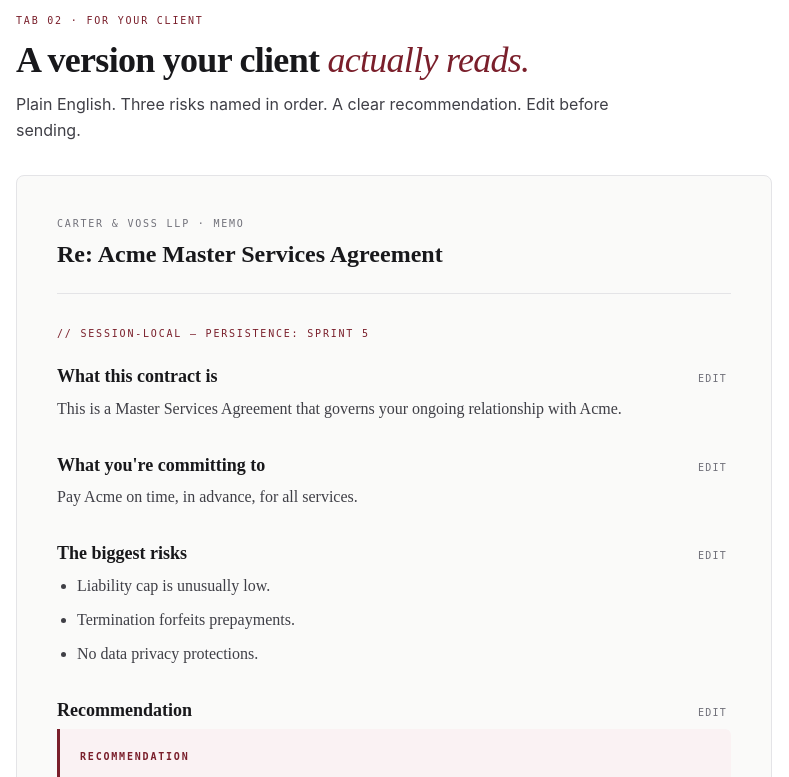
Test case: <ClientSummary /> › edit-in-place: clicking Edit on "What this contract is" → textarea → Save → rendered text reflects edit
Expected: the text "This is a Master Services Agreement that governs your ongoing relationship with Acme." is shown, [57, 400, 622, 416]
Note: Click the Edit button on the first section.
Click the button with test id "edit-what_this_contract_is" at (713, 378), box [694, 371, 731, 386]
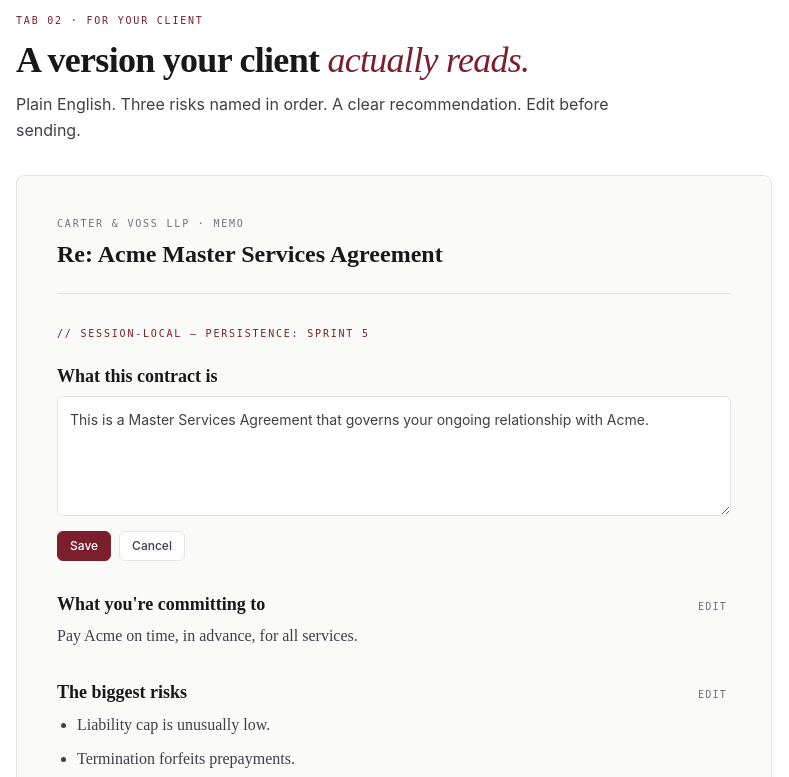
Now the text box with test id "textarea-what_this_contract_is" is shown
Now the text box with test id "textarea-what_this_contract_is" holds "This is a Master Services Agreement that governs your ongoing relationship with Acme."
Note: Type a replacement.
Replace the text in the text box with test id "textarea-what_this_contract_is" with "EDITED — a tighter sentence." at (394, 456), box [57, 396, 731, 516]
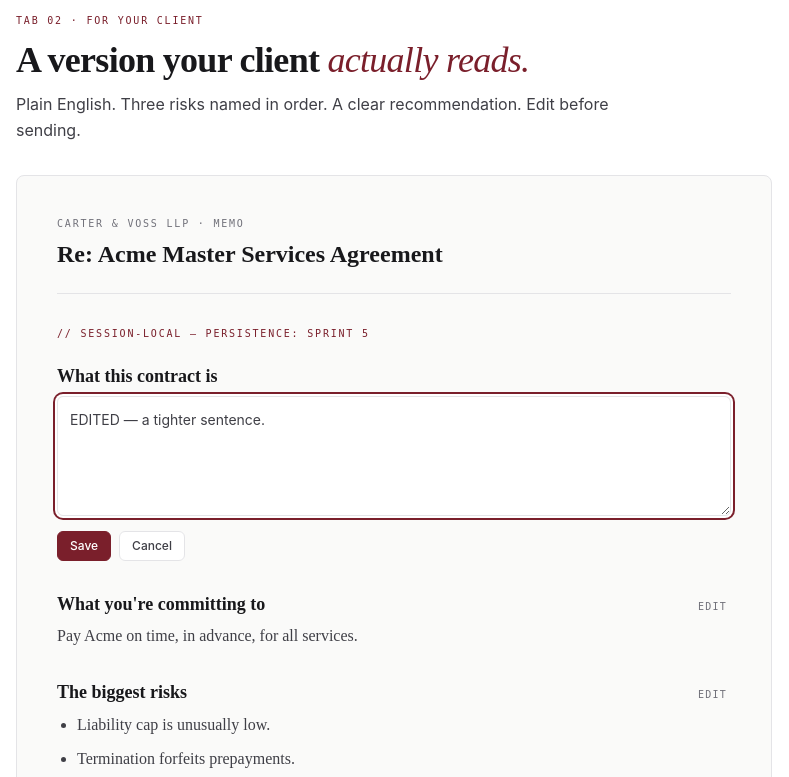
Click the button with test id "save-what_this_contract_is" at (84, 546), box [57, 530, 111, 560]
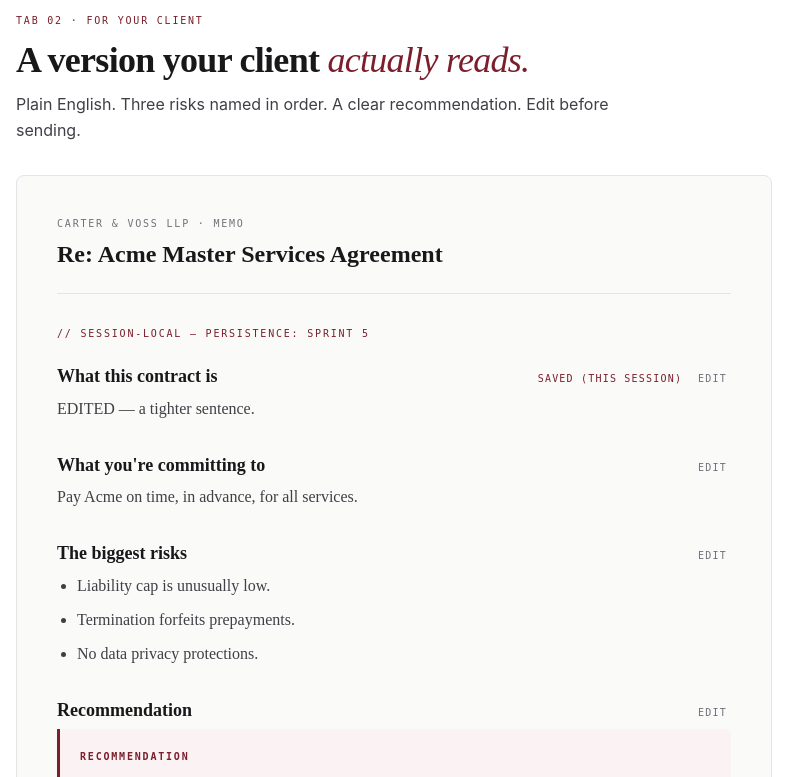
Now the text "EDITED — a tighter sentence." is shown, box [57, 400, 255, 416]
Now the text box with test id "textarea-what_this_contract_is" is gone
